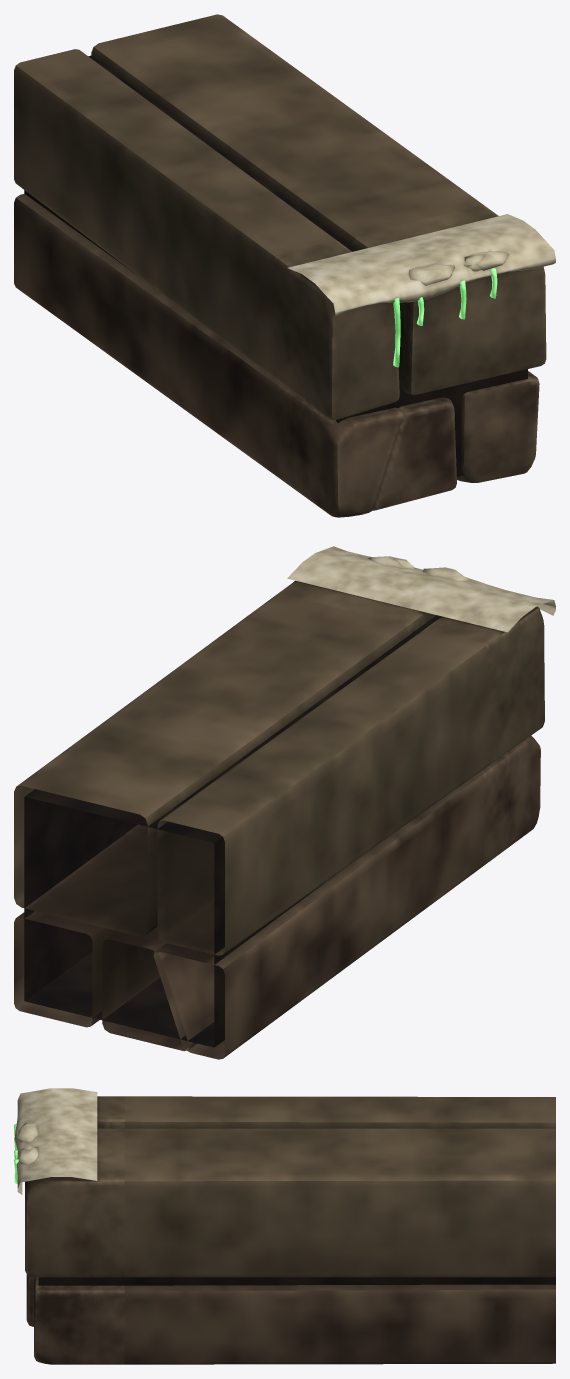
Rendered from Ossuary_Top_A.fbx.
The picture shows the model from 3 angles, top to bottom: view 1: azimuth 30°, elevation 25°; view 2: azimuth 150°, elevation 25°; view 3: azimuth 270°, elevation 25°; orthographic projection. The views are drawn at different scales.
Visible parts, largest first — view 1: Ossuary_Top_A; view 2: Ossuary_Top_A; view 3: Ossuary_Top_A.
Part boxes in pixels (<box>): Ossuary_Top_A: <box>14,14,555,517</box>; Ossuary_Top_A: <box>14,546,555,1059</box>; Ossuary_Top_A: <box>14,1088,555,1364</box>.
Size of the model in its own units: 1 by 1.02 by 2.58.
